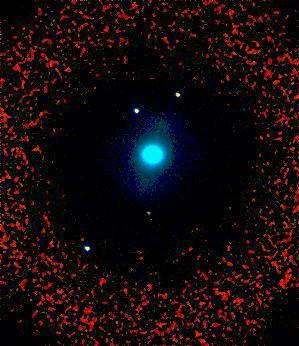star: (134, 199, 164, 229)
